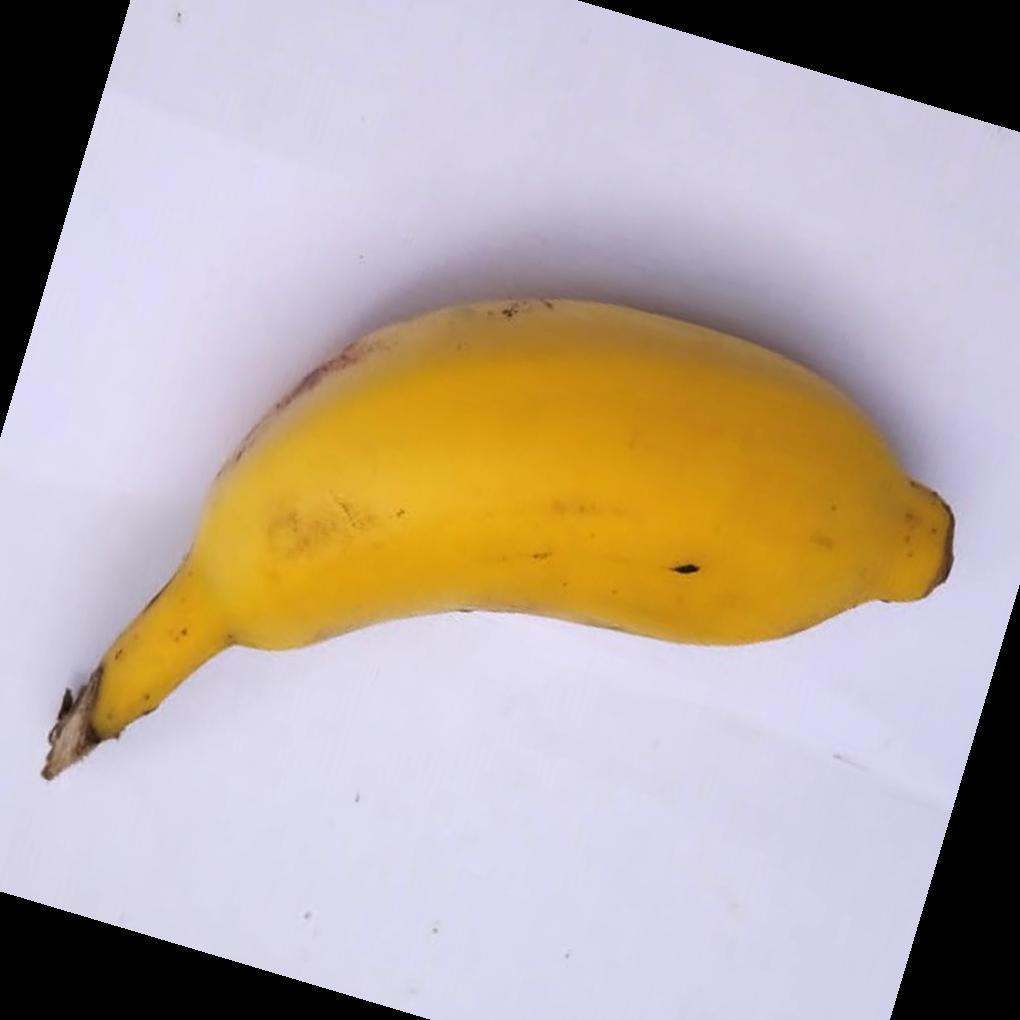Banana Ripe: (48, 274, 974, 783)
